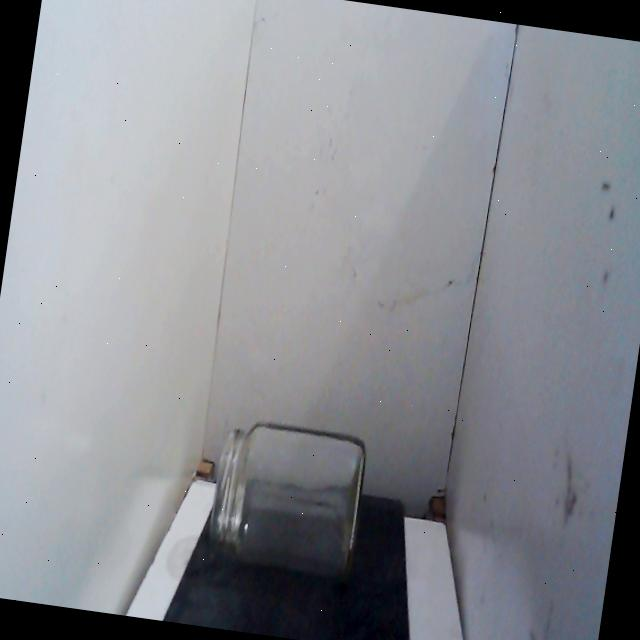vidro: (192, 388, 382, 610)
